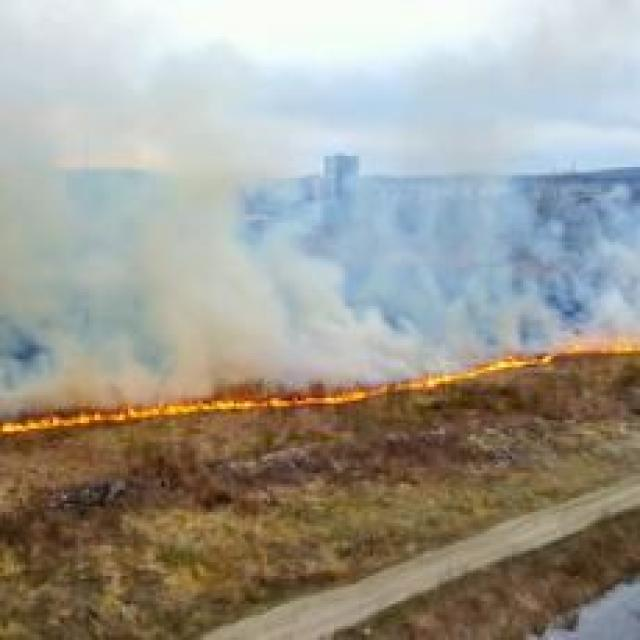Fire: (0, 344, 640, 444)
Smoke: (1, 16, 328, 403)
